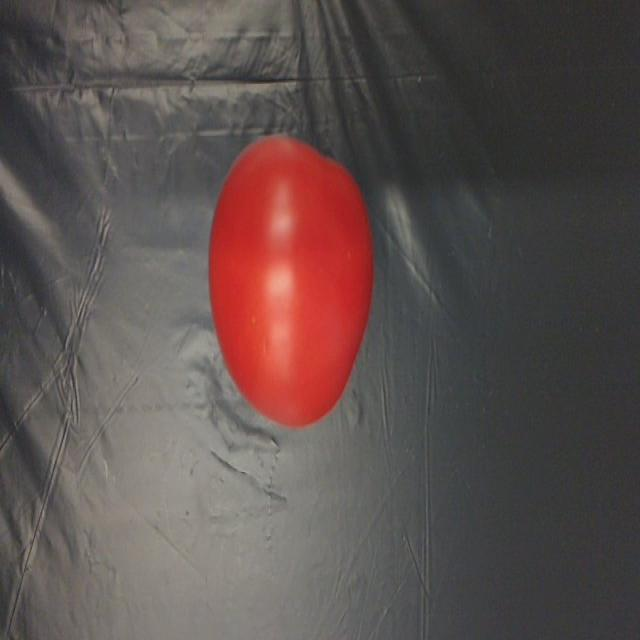kirmizi: (210, 126, 379, 432)
